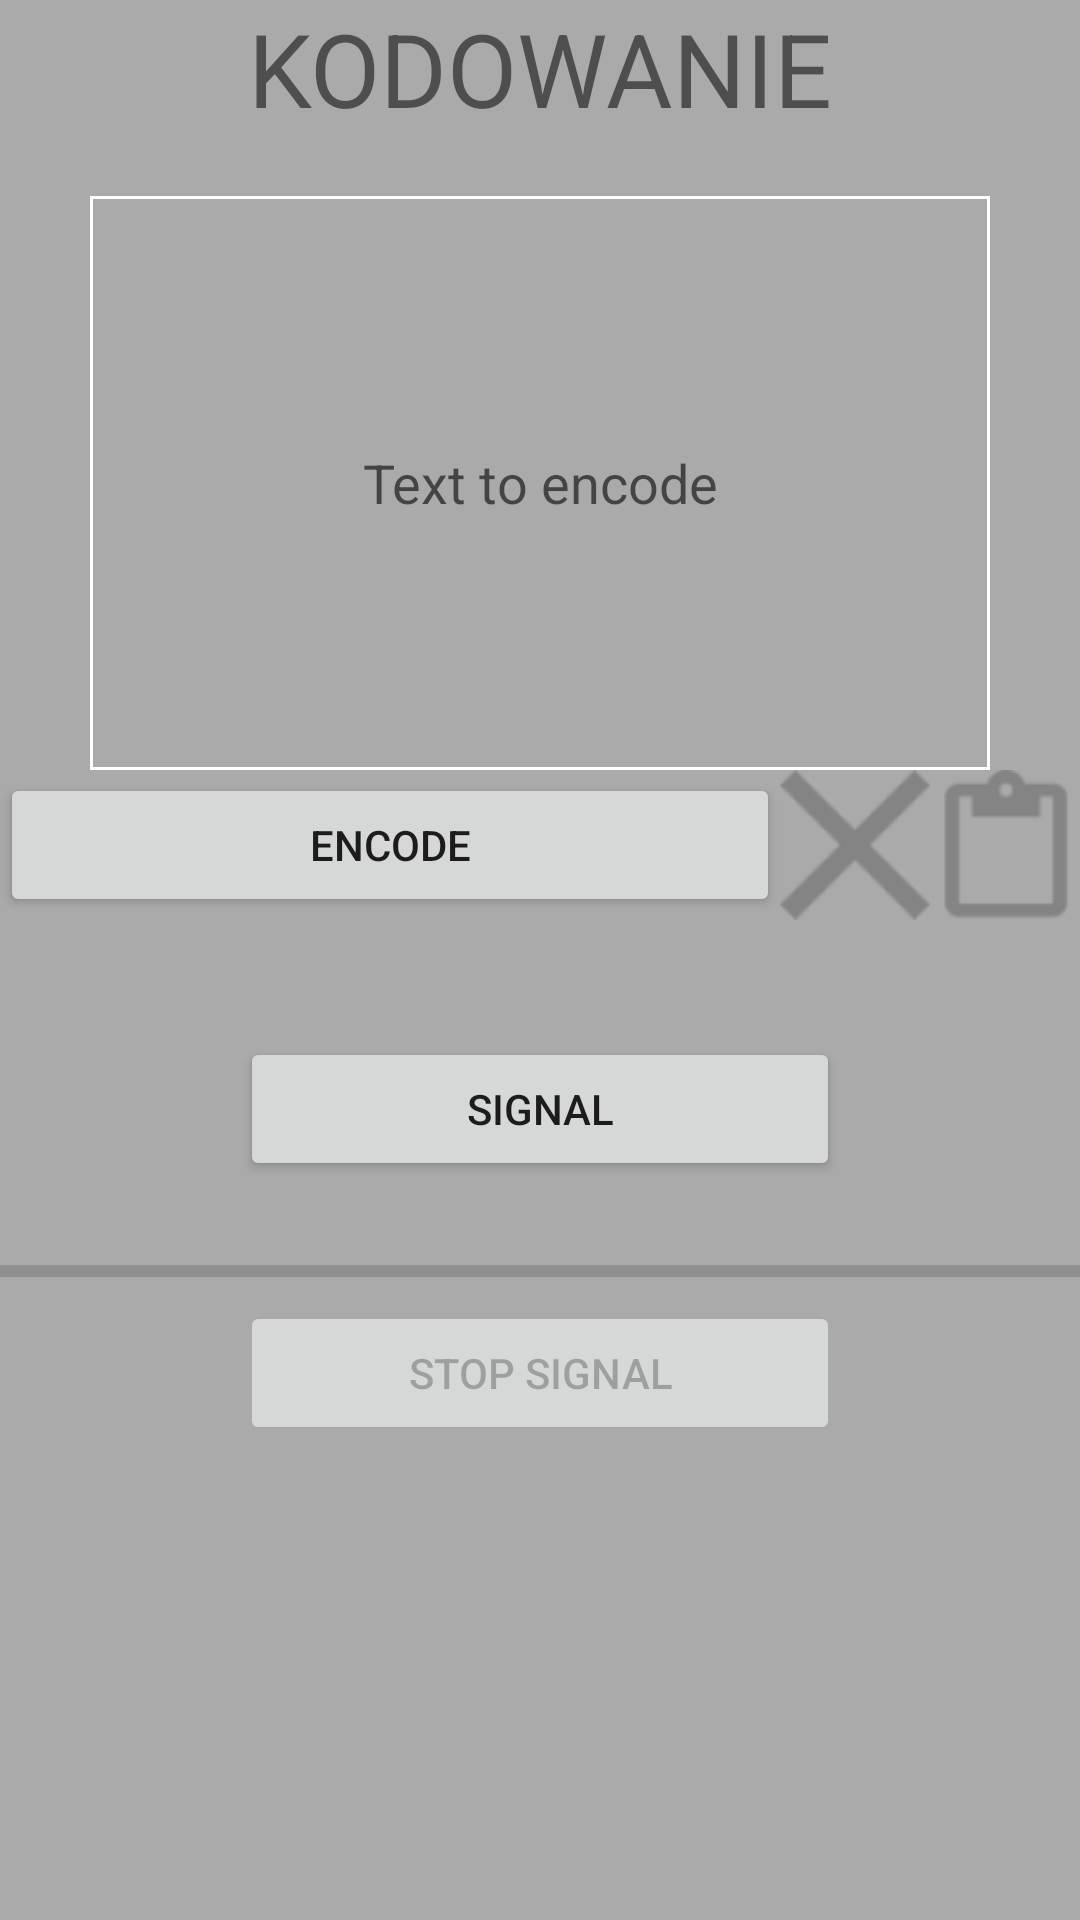

Icons on this 1080px×1920px Android screen, each with its box as (x1, y1, x2, y2):
clear: (781, 771, 929, 919)
paste: (945, 770, 1067, 917)
